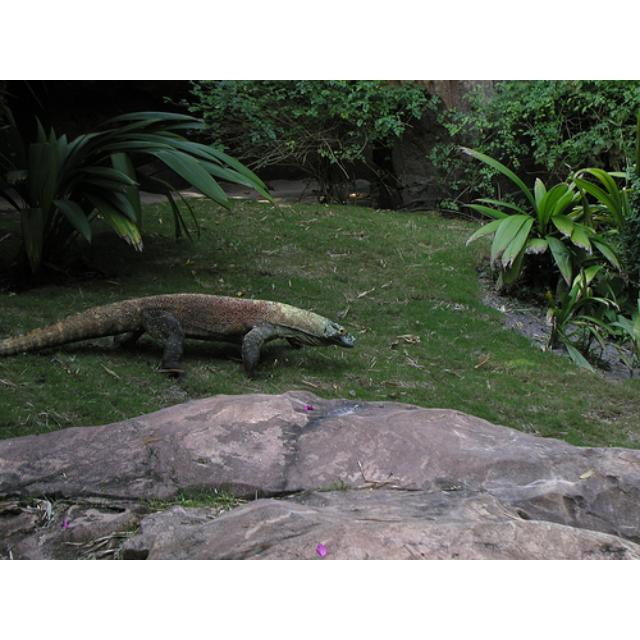KomodoDragon: (1, 291, 358, 376)
